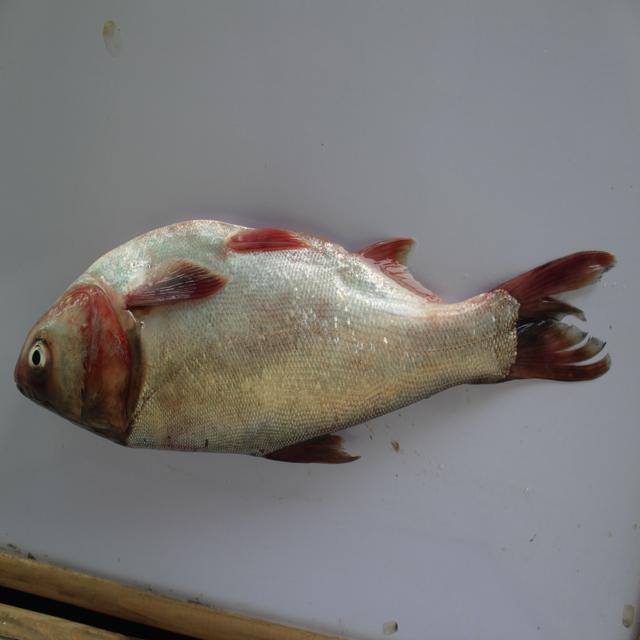SilverCarp: (10, 211, 616, 477)
